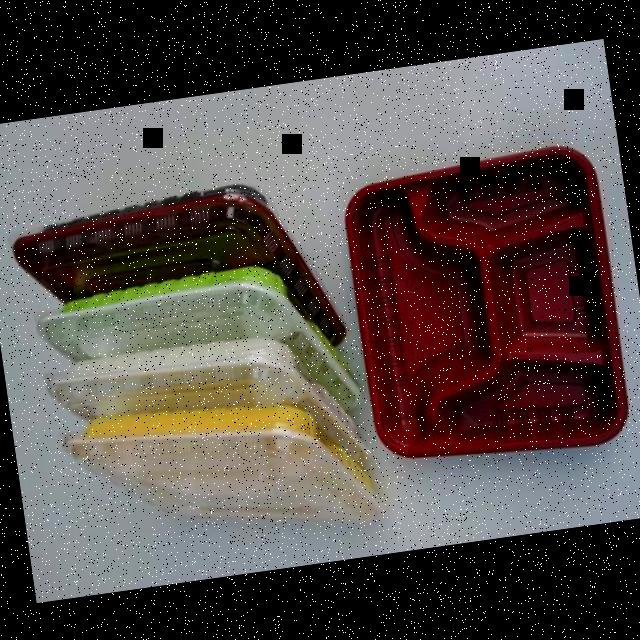plastic_box: (0, 158, 395, 579), (330, 133, 636, 484)
